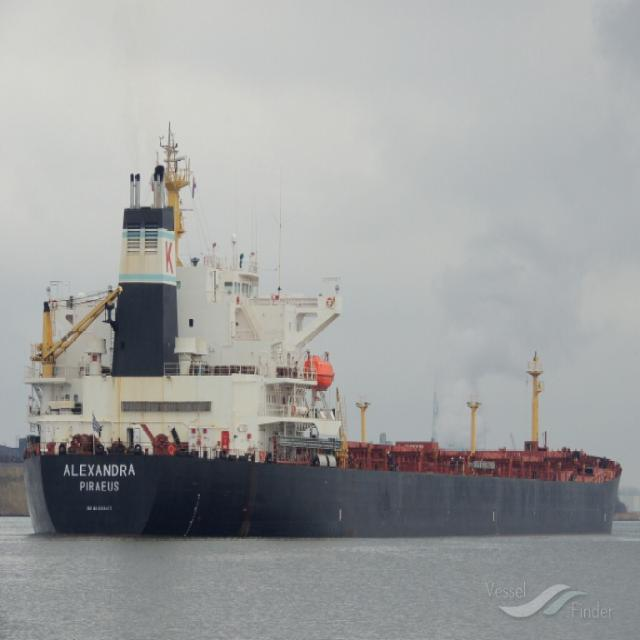OCR: (59, 458, 142, 516)
